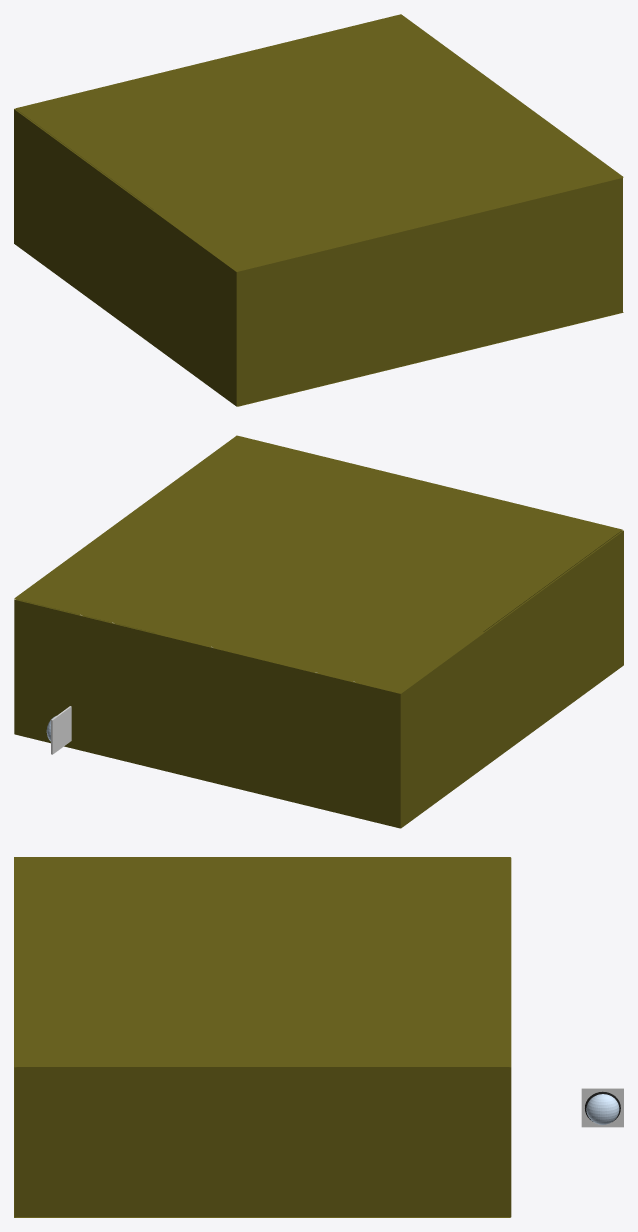
Rendered from assets voor escaperoom.fbx.
The picture shows the model from 3 angles, top to bottom: view 1: azimuth 30°, elevation 25°; view 2: azimuth 150°, elevation 25°; view 3: azimuth 270°, elevation 25°; orthographic projection. The views are drawn at different scales.
Visible parts, largest first — view 1: Plane.001, Cube.002, Cube.001; view 2: Plane.001, Cube.004, Cube.001, Cube; view 3: Plane.001, Cube.003, Cube.004, Sphere, Cube, Plane.
Part boxes in pixels (x1,y1,x2,y2): Plane.001: (16, 14, 623, 271); Cube.002: (237, 177, 622, 406); Cube.001: (14, 109, 237, 406); Plane.001: (14, 435, 622, 692); Cube.004: (14, 599, 400, 828); Cube.001: (400, 530, 623, 828); Cube: (51, 706, 71, 754); Plane.001: (14, 857, 510, 1066); Cube.003: (14, 1067, 509, 1216); Cube.004: (509, 858, 511, 1217); Sphere: (586, 1094, 619, 1124); Cube: (581, 1088, 623, 1127); Plane: (14, 1067, 510, 1217).
Size of the model in its own units: 3009 by 1006 by 3686.
